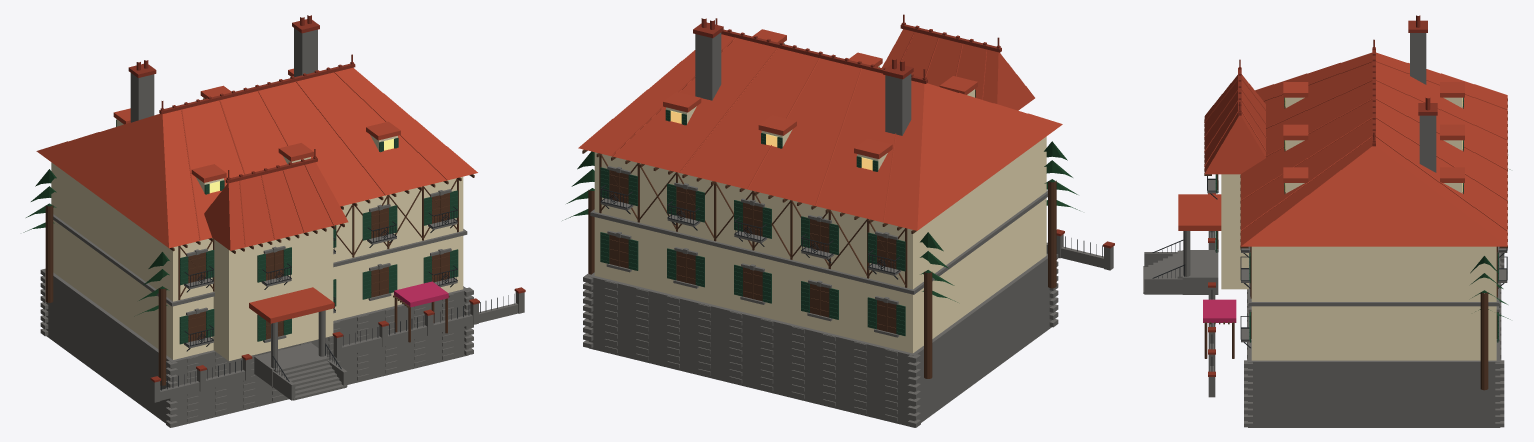
The model's file is fv_thd_03_villa_16_cadasa_grand.glb.
3 renders of one model, left to right at view 1: azimuth 30°, elevation 25°; view 2: azimuth 150°, elevation 25°; view 3: azimuth 270°, elevation 25°, orthographic. The views are drawn at different scales.
Parts seen in each view (by area): view 1: marseille_corrugated_roof_tiles, granite_foundation_and_stairs, stucco_facade_and_dormers, colombage_timber_and_eaves, pine_green_louvered_shutters, ridge_cresting_and_chimneys, wrought_iron_balconies_3d, pine_trees_and_garden_hedges, bougainvillea_pergola_clusters; view 2: marseille_corrugated_roof_tiles, granite_foundation_and_stairs, stucco_facade_and_dormers, colombage_timber_and_eaves, pine_green_louvered_shutters, ridge_cresting_and_chimneys, pine_trees_and_garden_hedges, wrought_iron_balconies_3d; view 3: marseille_corrugated_roof_tiles, stucco_facade_and_dormers, granite_foundation_and_stairs, colombage_timber_and_eaves, ridge_cresting_and_chimneys, bougainvillea_pergola_clusters, wrought_iron_balconies_3d, pine_green_louvered_shutters.
Part boxes in pixels (x1,y1,x2,y2): marseille_corrugated_roof_tiles: (36,67,477,323); granite_foundation_and_stairs: (40,28,524,427); stucco_facade_and_dormers: (51,77,463,360); colombage_timber_and_eaves: (45,174,474,385); pine_green_louvered_shutters: (116,77,458,344); ridge_cresting_and_chimneys: (128,15,525,382); wrought_iron_balconies_3d: (161,206,514,390); pine_trees_and_garden_hedges: (23,169,169,316); bougainvillea_pergola_clusters: (394,281,448,307); marseille_corrugated_roof_tiles: (578,29,1062,230); granite_foundation_and_stairs: (583,32,1113,427); stucco_facade_and_dormers: (594,42,1046,353); colombage_timber_and_eaves: (582,149,1056,378); pine_green_louvered_shutters: (600,43,975,335); ridge_cresting_and_chimneys: (693,14,1114,248); pine_trees_and_garden_hedges: (562,141,1079,302); wrought_iron_balconies_3d: (600,185,1102,279); marseille_corrugated_roof_tiles: (1178,52,1507,246); stucco_facade_and_dormers: (1221,97,1496,360); granite_foundation_and_stairs: (1143,33,1507,427); colombage_timber_and_eaves: (1204,98,1507,390); ridge_cresting_and_chimneys: (1208,15,1437,376); bougainvillea_pergola_clusters: (1203,299,1236,322); wrought_iron_balconies_3d: (1152,176,1507,371); pine_green_louvered_shutters: (1215,97,1498,342).
Size of the model in its own units: 28.12 by 21.13 by 24.59.
